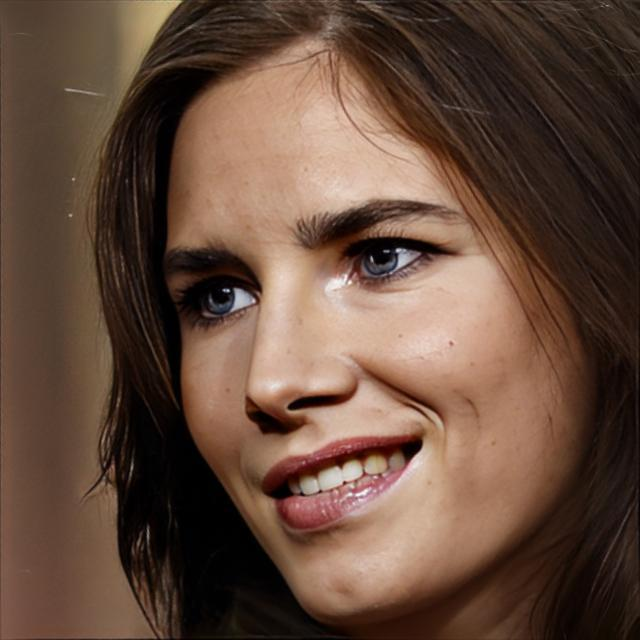content: (166, 34, 602, 626)
